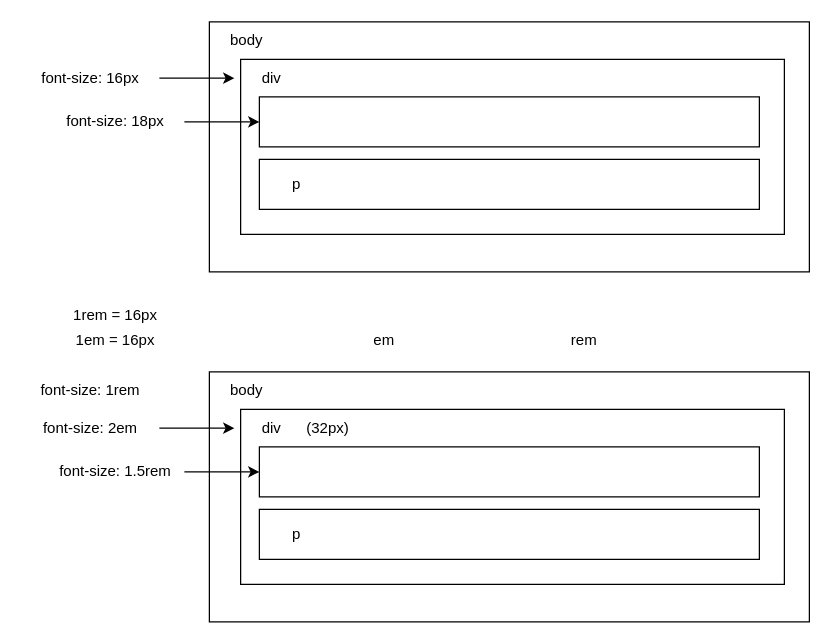
Image size: 831x644. Some labels were removed from this diagram. Here are the shapes that lost their labels. From the top down, the centre of each, then its label:
(508,121): H1
(508,471): H1 (24px)
